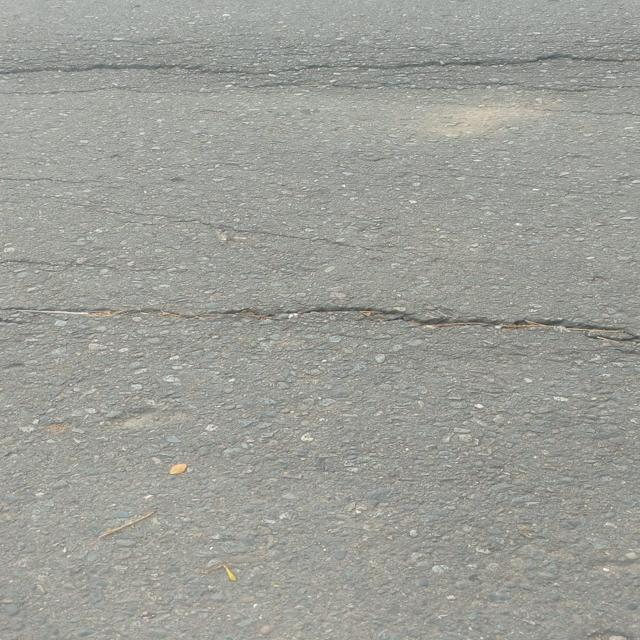Melintang: (0, 295, 640, 359), (0, 47, 640, 96)
